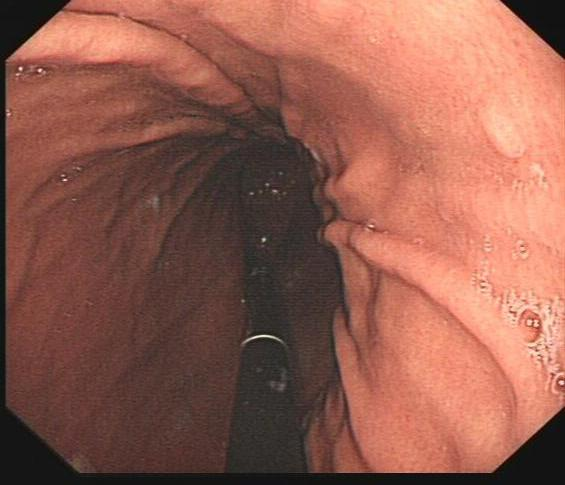Polyp: (469, 105, 532, 162)
